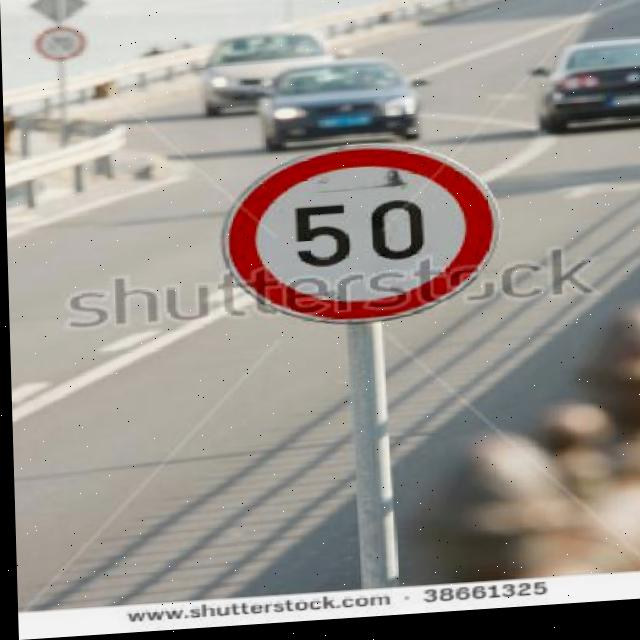Speed limit 50: (216, 140, 503, 339)
